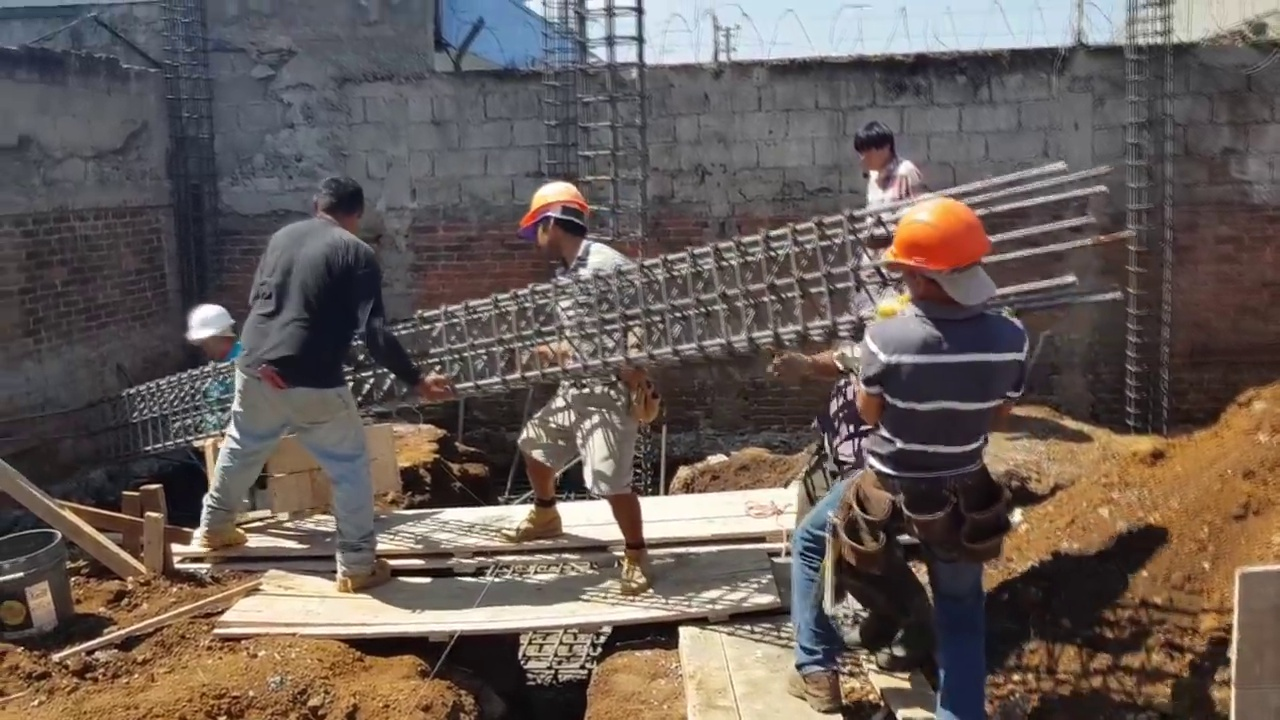helmet: (883, 196, 995, 288), (517, 180, 588, 231), (182, 305, 235, 344)
helmet-off: (310, 176, 367, 235), (854, 115, 897, 178)
helmet-on: (880, 195, 1000, 319), (516, 180, 588, 266), (181, 305, 232, 357)
person: (794, 194, 1045, 700), (200, 175, 439, 586), (508, 177, 663, 606), (839, 119, 918, 331)
